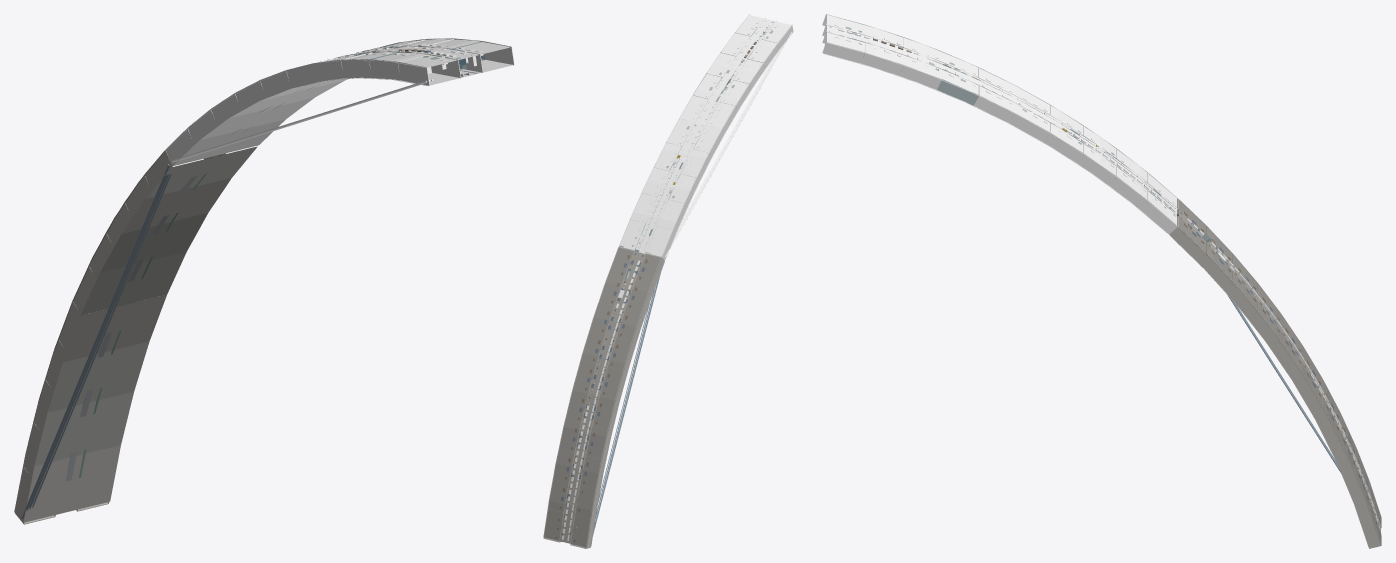
File: xuanshu_interior_C46.glb
3 views of the same model, side by side, from view 1: azimuth 30°, elevation 25°; view 2: azimuth 150°, elevation 25°; view 3: azimuth 270°, elevation 25° (orthographic). The views are drawn at different scales.
Visible parts, largest first — view 1: UNIT-HAB-009_S0; view 2: UNIT-HAB-009_S0; view 3: UNIT-HAB-009_S0.
Part boxes in pixels (left/top/right/bottom): UNIT-HAB-009_S0: left=14, top=38, right=514, bottom=524; UNIT-HAB-009_S0: left=543, top=14, right=793, bottom=548; UNIT-HAB-009_S0: left=822, top=14, right=1381, bottom=548.
Bounding box in the file's own units: 17.31 × 143 × 143.
